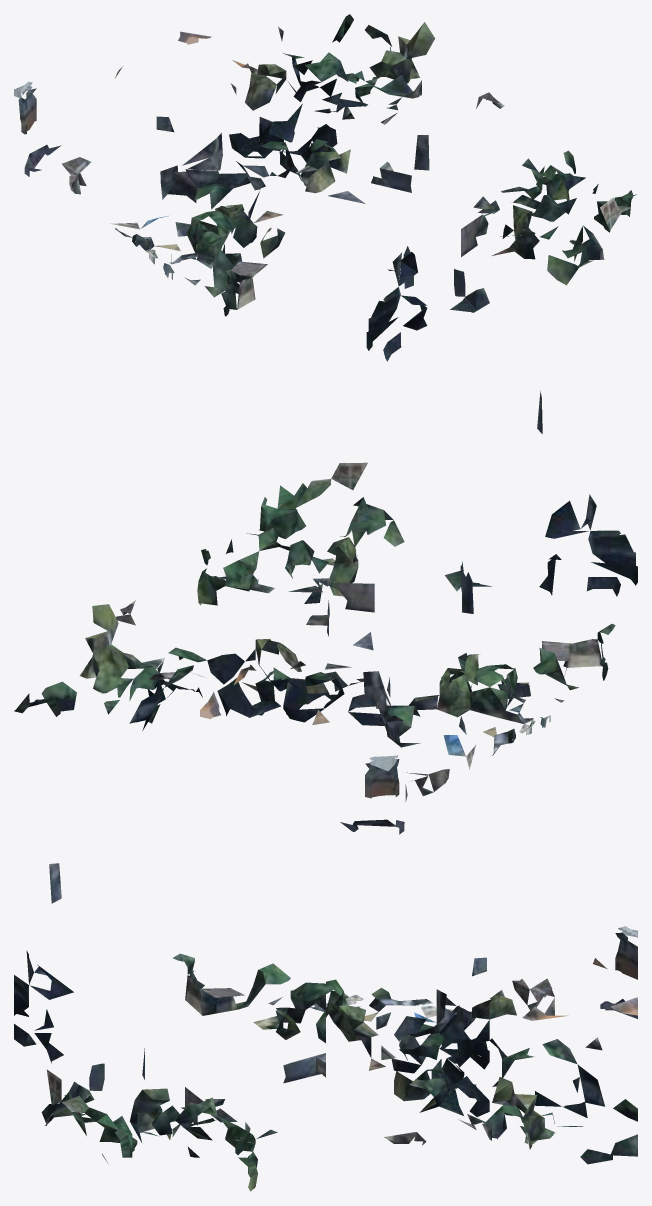
The picture shows the model from 3 angles, top to bottom: view 1: azimuth 30°, elevation 25°; view 2: azimuth 150°, elevation 25°; view 3: azimuth 270°, elevation 25°; orthographic projection. The views are drawn at different scales.
Visible parts, largest first — view 1: 3043627270436163653_1; view 2: 3043627270436163653_1; view 3: 3043627270436163653_1.
Part boxes in pixels (x1,y1,x2,y2): 3043627270436163653_1: [14, 14, 636, 361]; 3043627270436163653_1: [14, 391, 637, 834]; 3043627270436163653_1: [14, 863, 637, 1191].
Bounding box in the file's own units: 54.61 × 28.96 × 76.51.
1 material, 1 textured.
